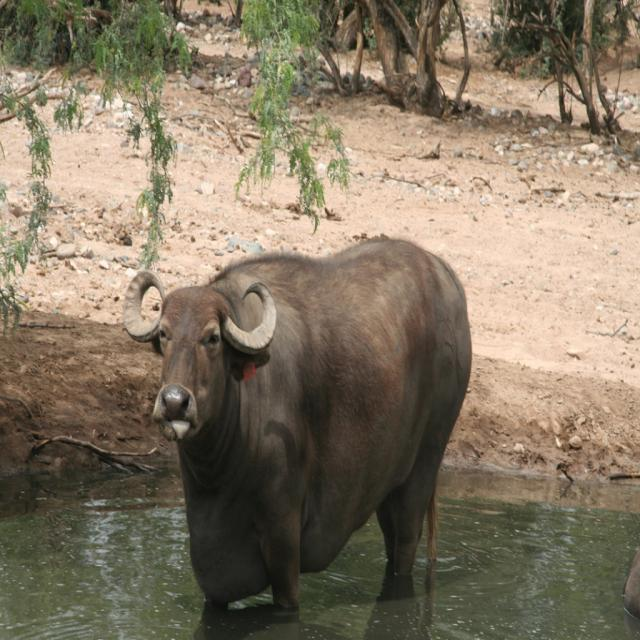Cattle: (123, 234, 472, 608)
